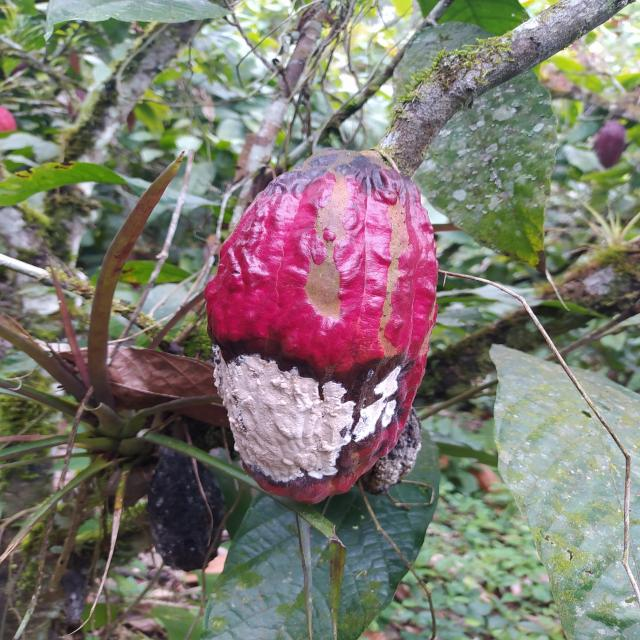Monilia: (206, 145, 438, 506)
